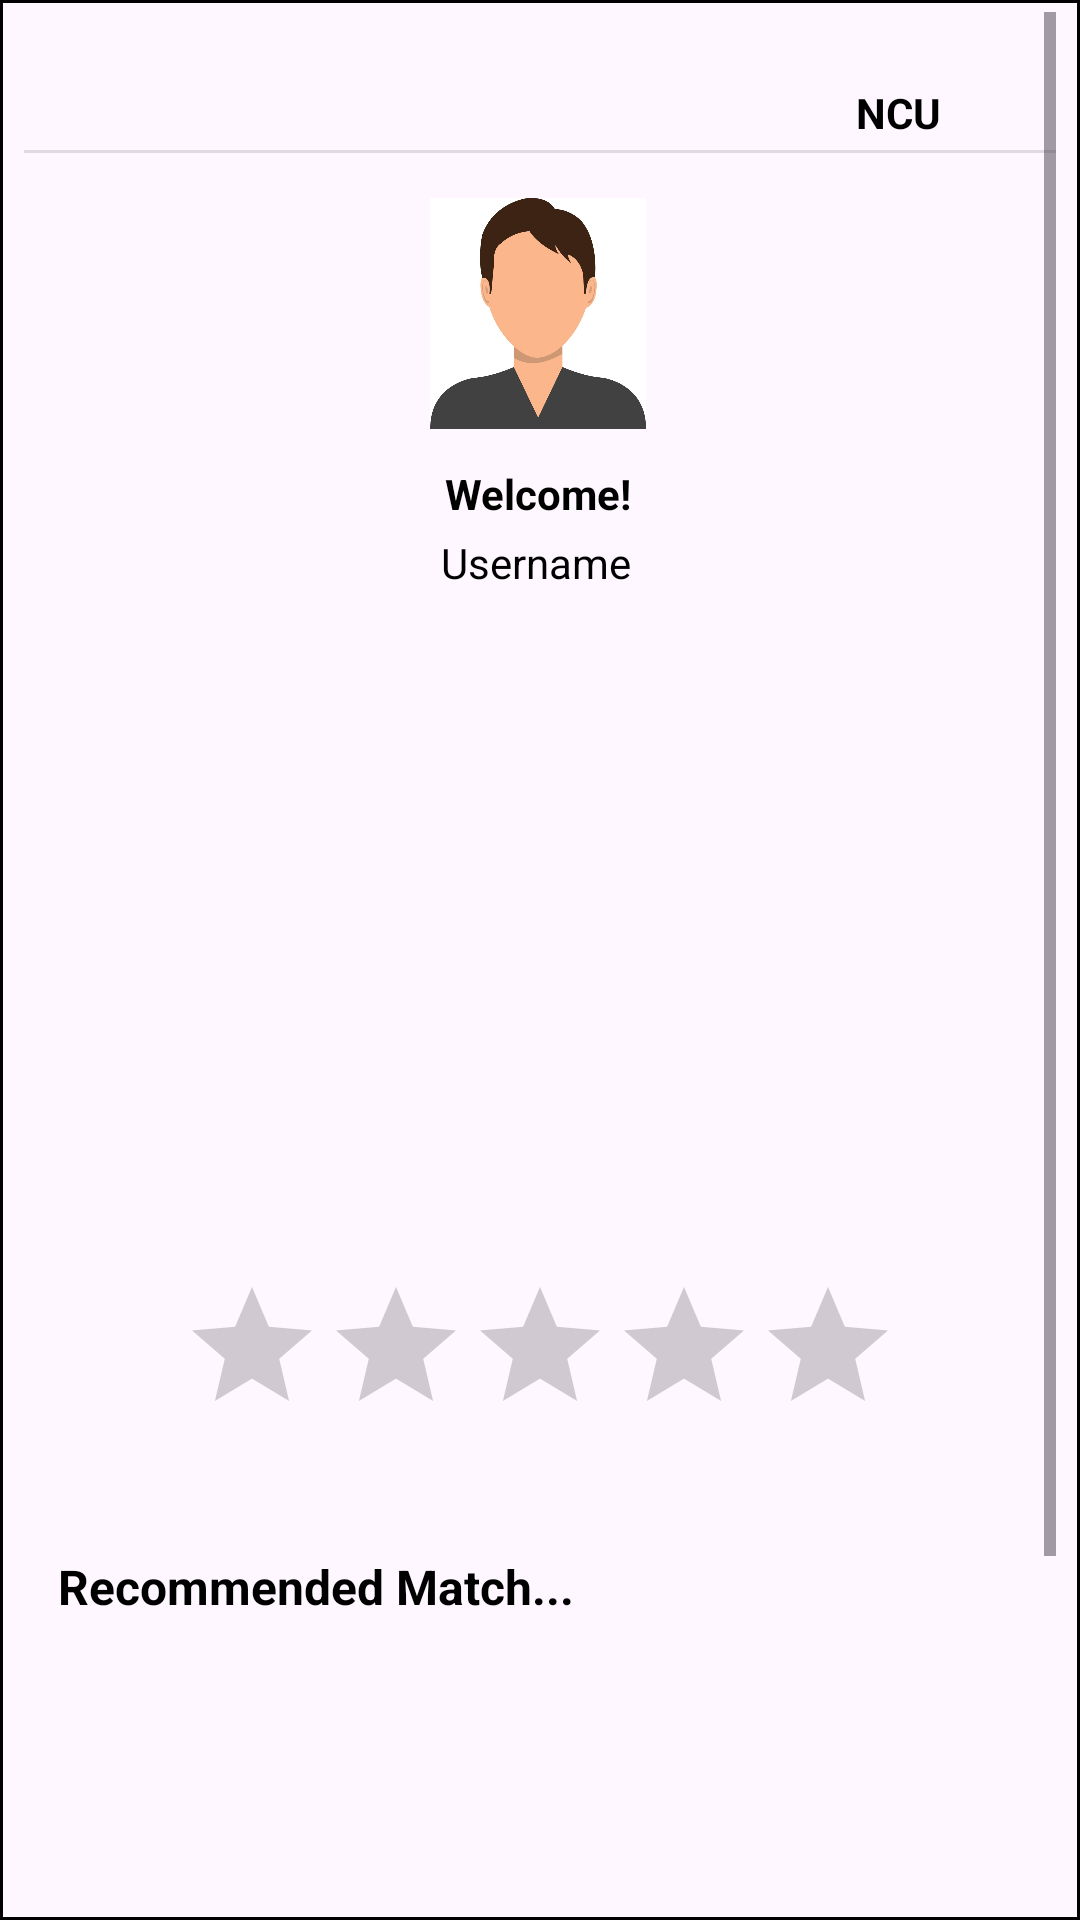

Icon bounding boxes for this 1080w x 1920h phone screenshot, format [left=x1, top=y1, right=x2, bottom=y2]:
avatarmaleimg: [left=430, top=198, right=646, bottom=429]
